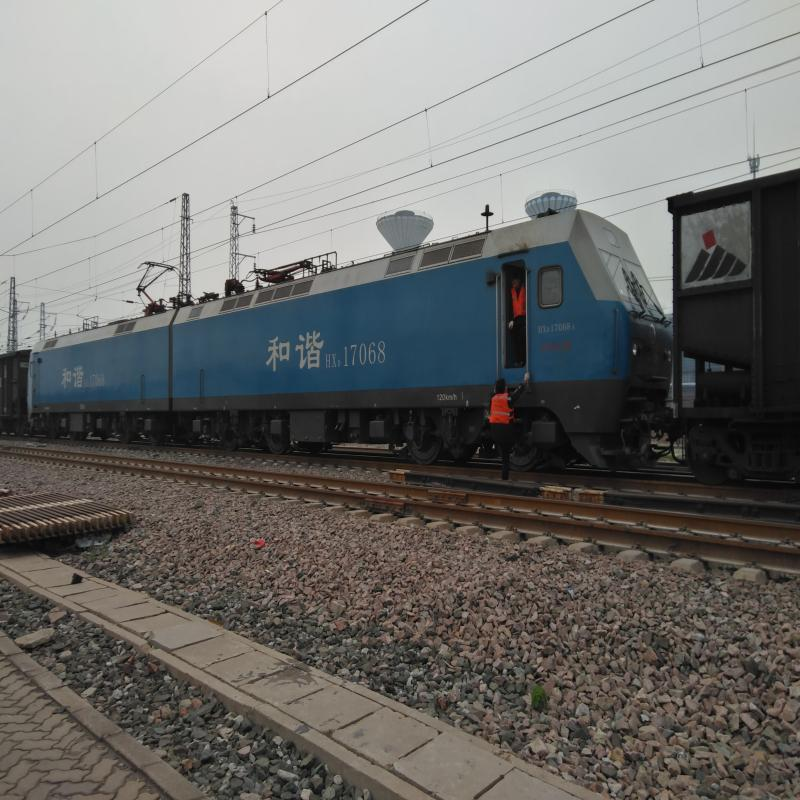train: (177, 276, 646, 453)
